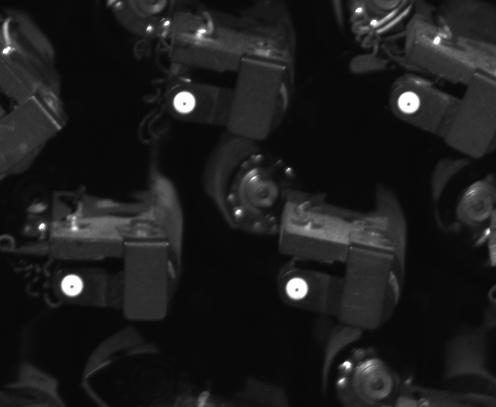fiber: (166, 86, 201, 119), (56, 270, 91, 302), (394, 87, 426, 120), (280, 273, 312, 304)
